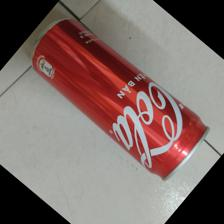Coca: (30, 17, 211, 183)
